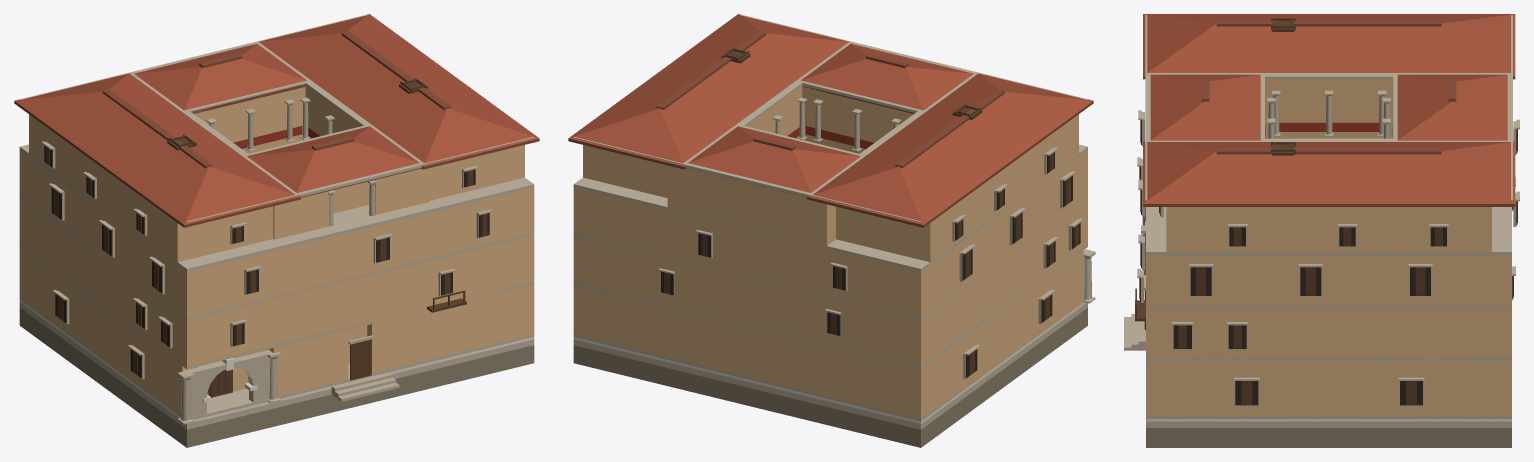
Rendered from rome_lux_row4.glb.
3 views of the same model, side by side, from view 1: azimuth 30°, elevation 25°; view 2: azimuth 150°, elevation 25°; view 3: azimuth 270°, elevation 25° (orthographic). The views are drawn at different scales.
Parts seen in each view (by area): view 1: rome_lux_row4; view 2: rome_lux_row4; view 3: rome_lux_row4.
Part boxes in pixels (<box>): rome_lux_row4: <box>14,14,539,447</box>; rome_lux_row4: <box>568,14,1095,447</box>; rome_lux_row4: <box>1124,14,1519,447</box>.
Bounding box in the file's own units: 25 × 16.35 × 21.64.
